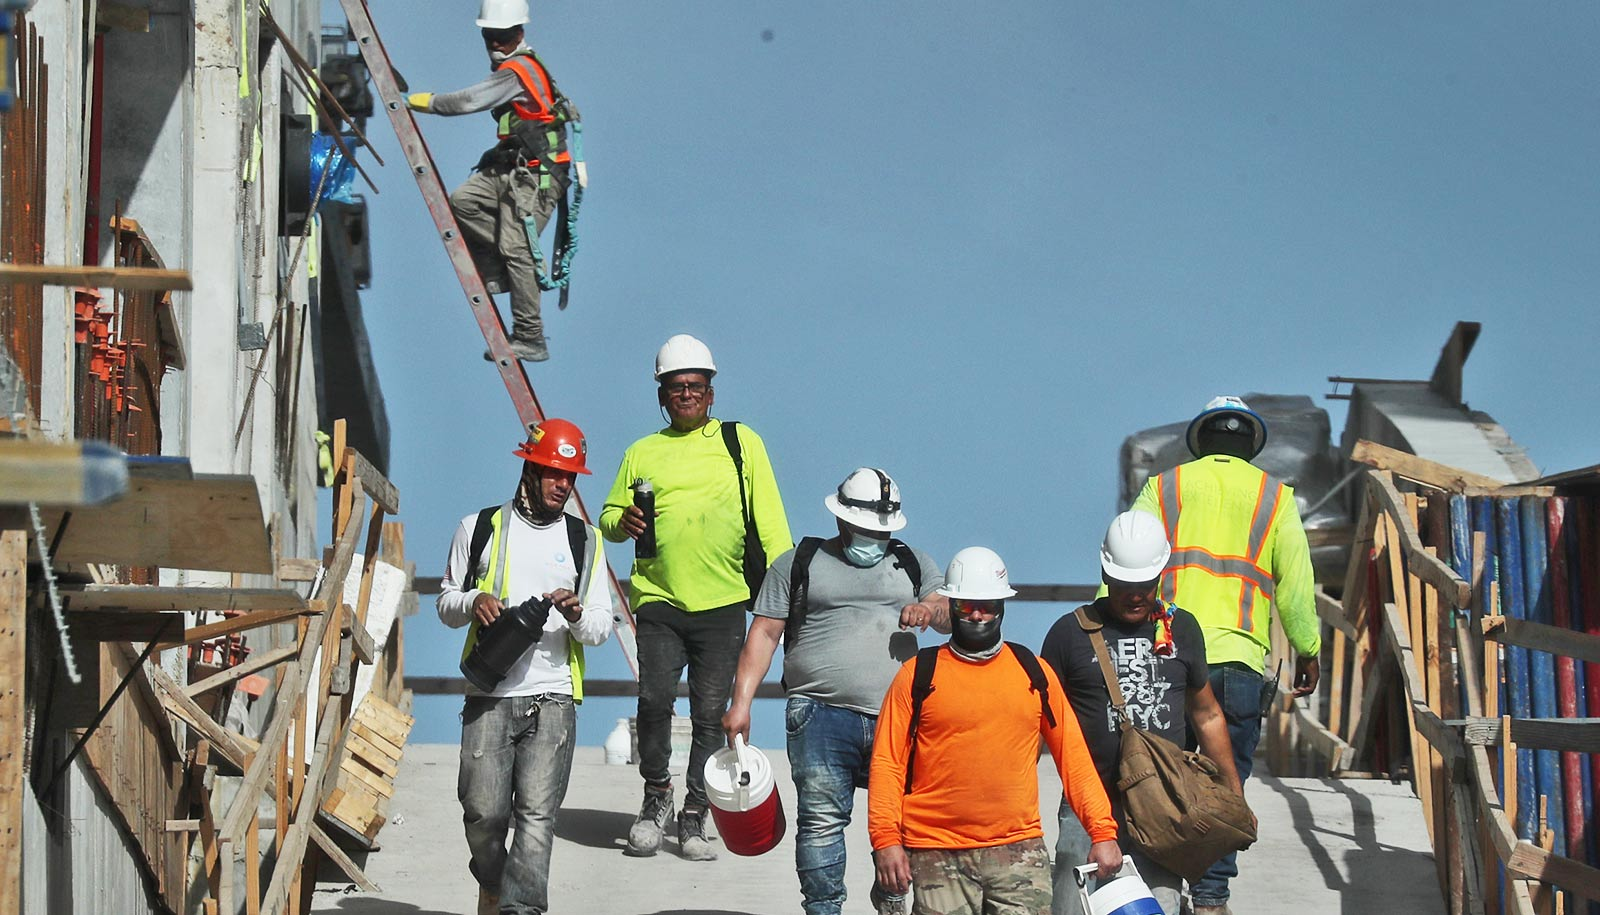Safety Helmet: (1079, 501, 1177, 646), (502, 395, 602, 537), (924, 537, 1026, 668), (816, 453, 916, 579), (635, 324, 724, 437), (468, 1, 548, 72)
